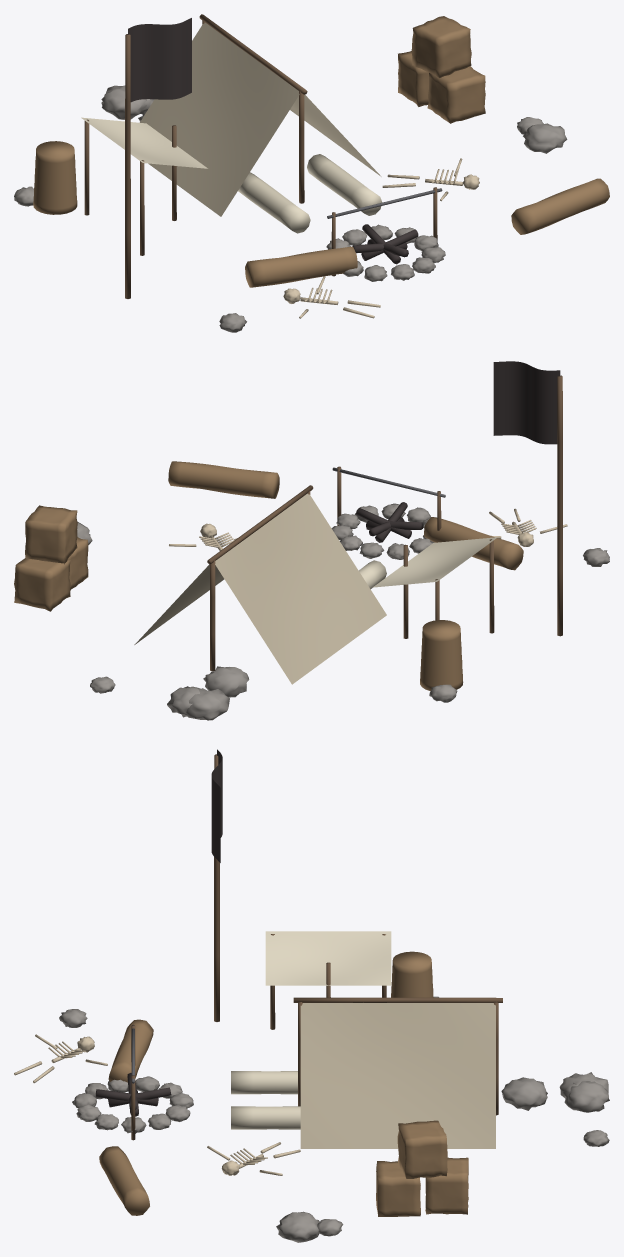
File: poi_skeleton_camp.glb
3 renders of one model, top to bottom at view 1: azimuth 30°, elevation 25°; view 2: azimuth 150°, elevation 25°; view 3: azimuth 270°, elevation 25°, orthographic. The views are drawn at different scales.
Parts seen in each view (by area): view 1: poi_skeleton_camp; view 2: poi_skeleton_camp; view 3: poi_skeleton_camp.
Part boxes in pixels (x1,y1,x2,y2): poi_skeleton_camp: (14,14,609,332); poi_skeleton_camp: (14,361,609,720); poi_skeleton_camp: (14,749,609,1242).
Bounding box in the file's own units: 8.03 × 4.3 × 8.55.
